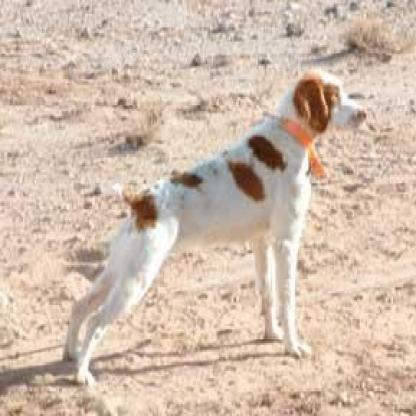Brittany_spaniel: (62, 69, 364, 385)
